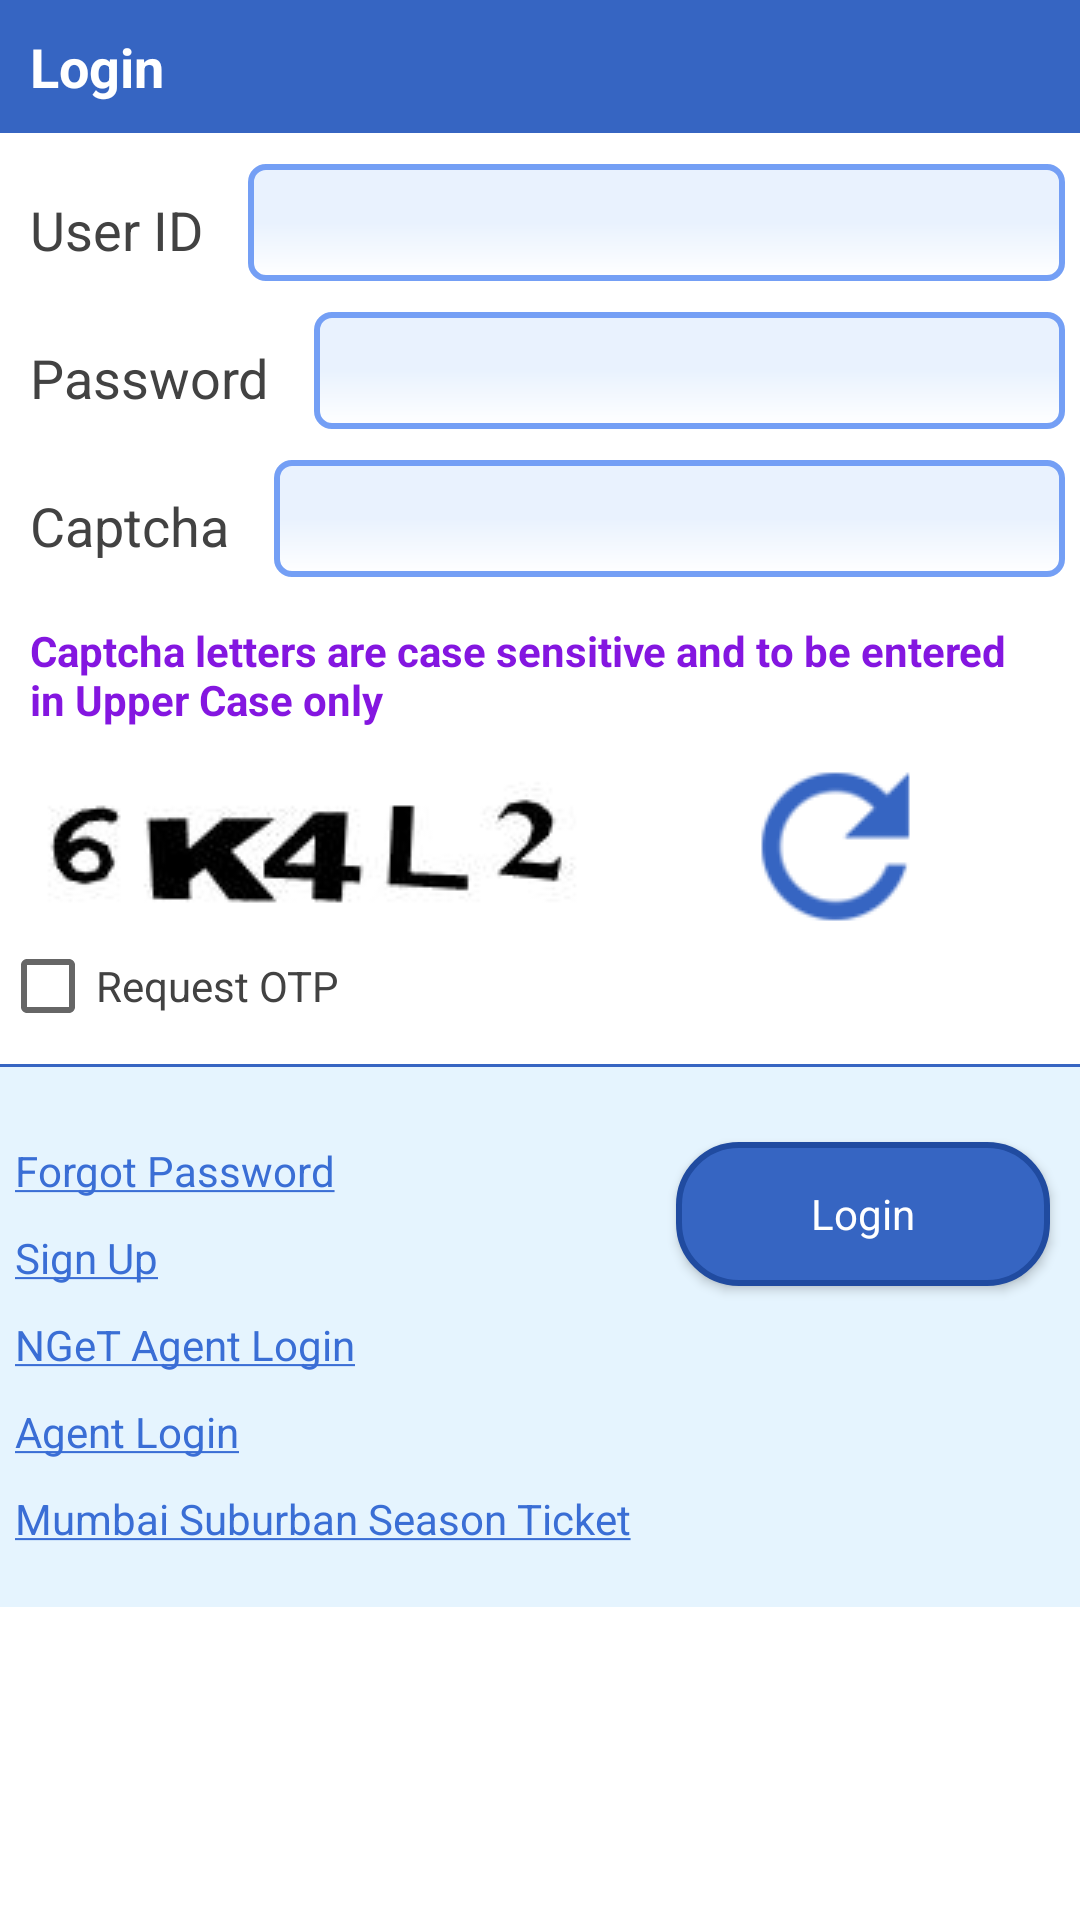

Where icons sit on this 1080px×1920px app screen, as (x1, y1, x2, y2):
refresh: (761, 772, 910, 921)
